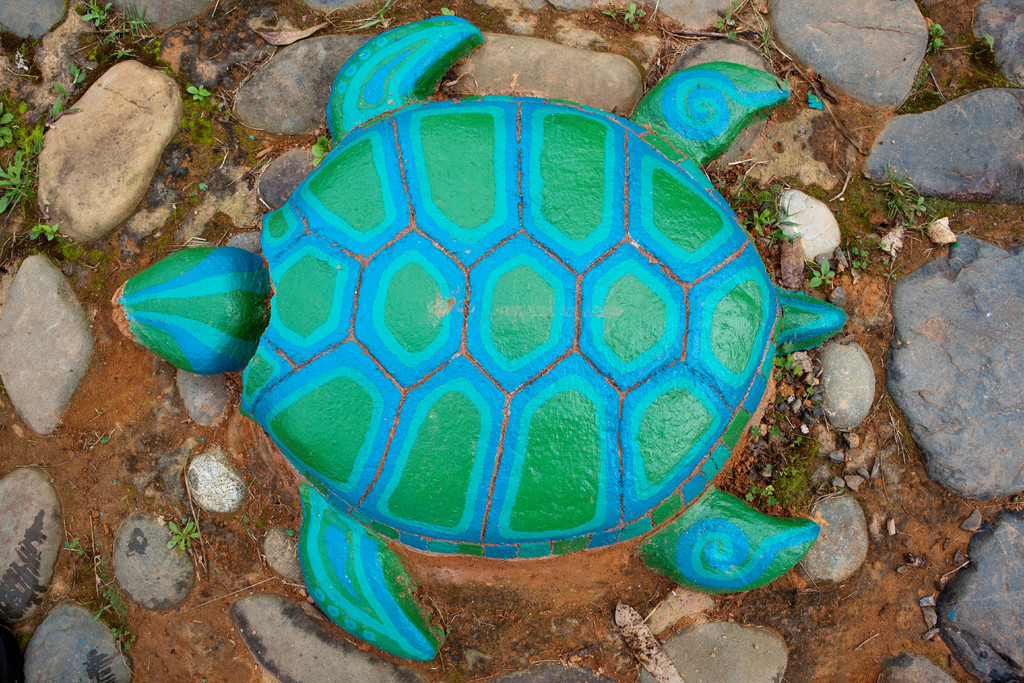Sea turtles: (119, 6, 848, 659)
